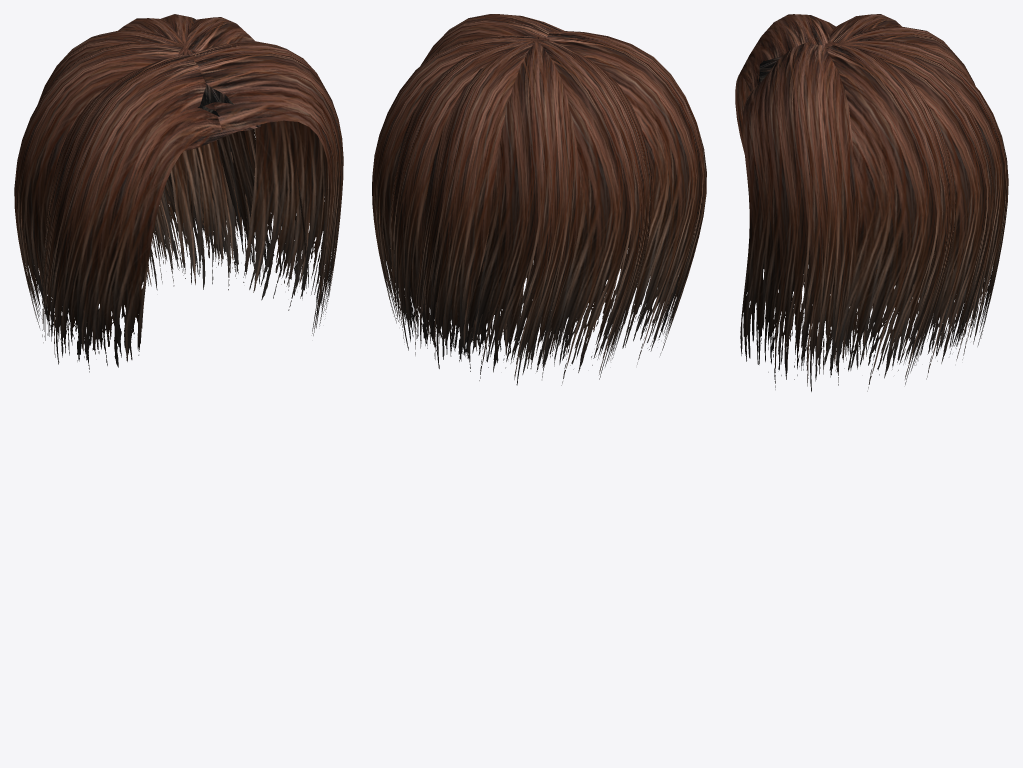
The model's file is Hair_Factory.fbx.
The picture shows the model from 3 angles, left to right: view 1: azimuth 30°, elevation 25°; view 2: azimuth 150°, elevation 25°; view 3: azimuth 270°, elevation 25°; orthographic projection.
Parts seen in each view (by area): view 1: Plane.044, Plane.041, Plane.045, Plane.046, Plane.042, Plane.047, Plane.043; view 2: Plane.043, Plane.045, Plane.047, Plane.044, Plane.042, Plane.046, Plane.041; view 3: Plane.041, Plane.046, Plane.042, Plane.047, Plane.044, Plane.043, Plane.045.
Part boxes in pixels (bbox=[...]): Plane.044: bbox=[42, 54, 262, 372]; Plane.041: bbox=[185, 41, 343, 335]; Plane.045: bbox=[14, 42, 182, 343]; Plane.046: bbox=[170, 17, 308, 293]; Plane.042: bbox=[147, 14, 269, 290]; Plane.047: bbox=[118, 18, 233, 275]; Plane.043: bbox=[38, 30, 197, 103]; Plane.043: bbox=[447, 36, 589, 385]; Plane.045: bbox=[519, 40, 652, 385]; Plane.047: bbox=[405, 37, 546, 371]; Plane.044: bbox=[546, 31, 706, 364]; Plane.042: bbox=[390, 38, 549, 354]; Plane.046: bbox=[372, 35, 553, 336]; Plane.041: bbox=[420, 14, 564, 65]; Plane.041: bbox=[740, 42, 877, 391]; Plane.046: bbox=[824, 41, 956, 391]; Plane.042: bbox=[759, 43, 993, 379]; Plane.047: bbox=[759, 39, 1008, 359]; Plane.044: bbox=[735, 14, 835, 287]; Plane.043: bbox=[826, 26, 984, 317]; Plane.045: bbox=[828, 14, 901, 42].
Size of the model in its own units: 374 by 864 by 304.
